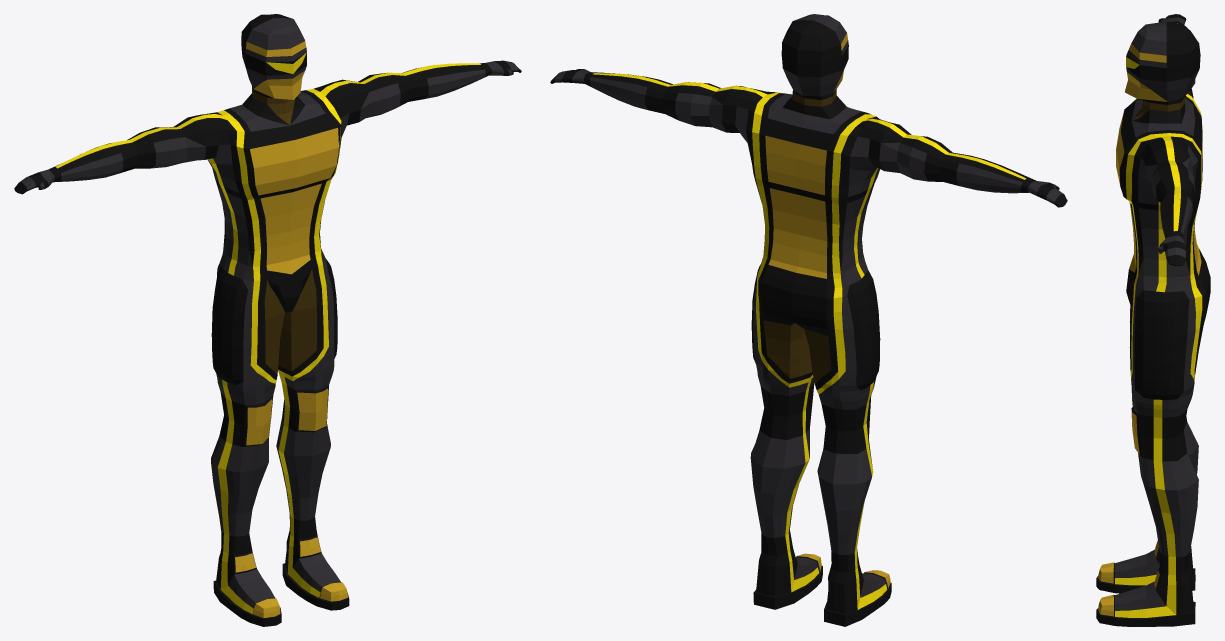
File: AssaultClass_PlayerModel_Yellow.obj
3 renders of one model, left to right at view 1: azimuth 30°, elevation 25°; view 2: azimuth 150°, elevation 25°; view 3: azimuth 270°, elevation 25°, orthographic.
Visible parts, largest first — view 1: metarig_object_metarig_mesh; view 2: metarig_object_metarig_mesh; view 3: metarig_object_metarig_mesh.
Part boxes in pixels (left/top/right/bottom): metarig_object_metarig_mesh: left=14, top=14, right=521, bottom=626; metarig_object_metarig_mesh: left=550, top=14, right=1067, bottom=626; metarig_object_metarig_mesh: left=1096, top=14, right=1210, bottom=626.
Size of the model in its own units: 1.71 by 1.86 by 0.3361.
